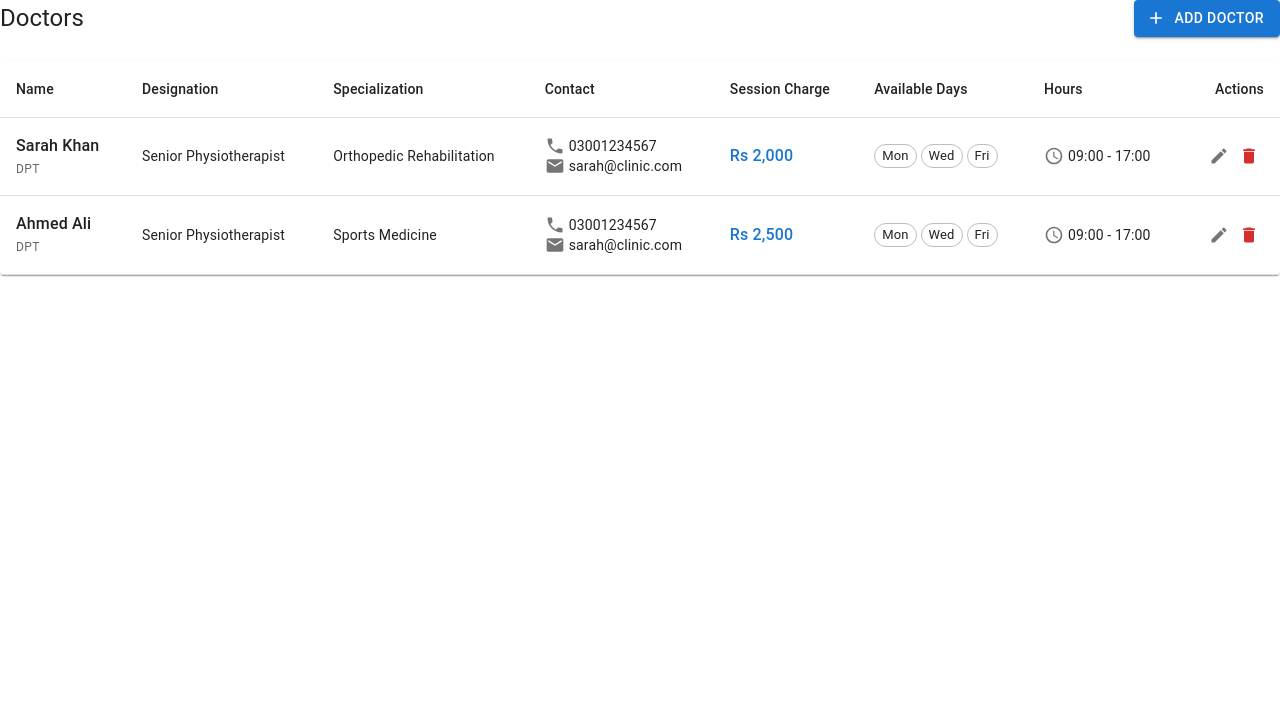
it: Doctor Workflow Integration Tests › Edit Doctor Flow › should open edit dialog when clicking edit button
expect the text "Sarah Khan" is shown: met, box 16,134 -> 110,158
// Click edit button for first doctor
Click the button named "edit doctor" in the row of "Khan". click: click(1219, 156)
box: 1204,142 -> 1234,172
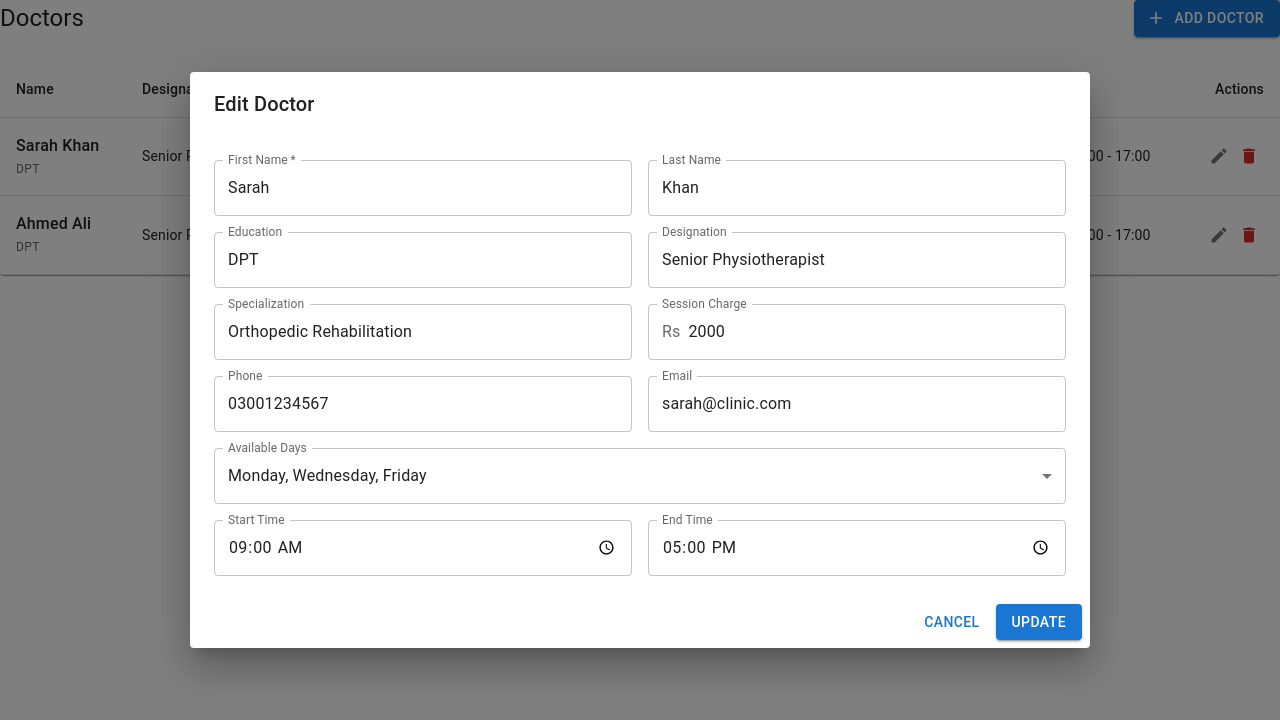
expect the heading "Edit Doctor" is shown: met, box 214,92 -> 314,116
